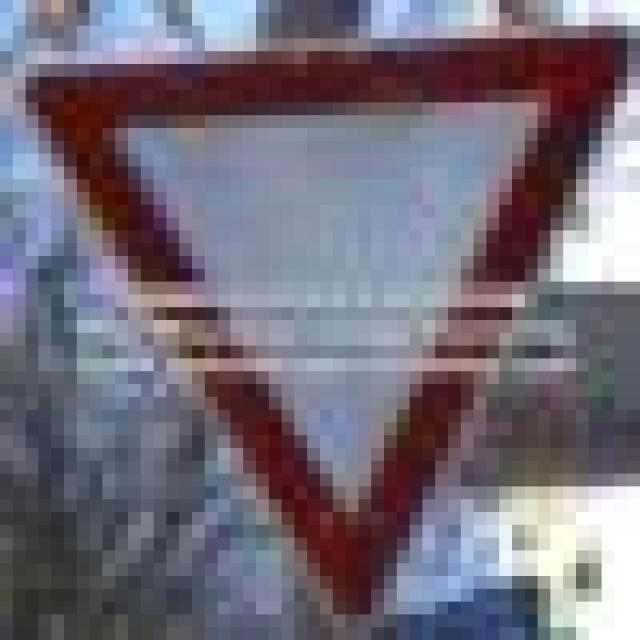gap_in_median: (13, 26, 614, 614)
